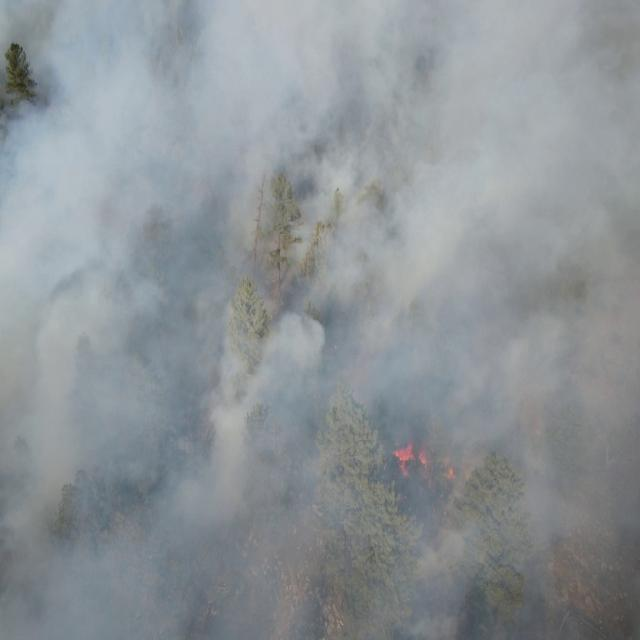fire: (393, 439, 429, 481), (441, 454, 458, 478)
smoke: (2, 2, 640, 640)
